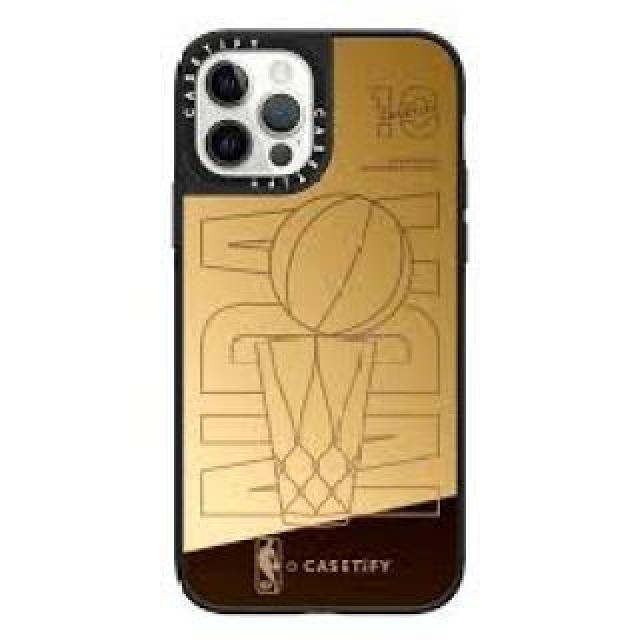smart phone: (172, 0, 495, 640)
